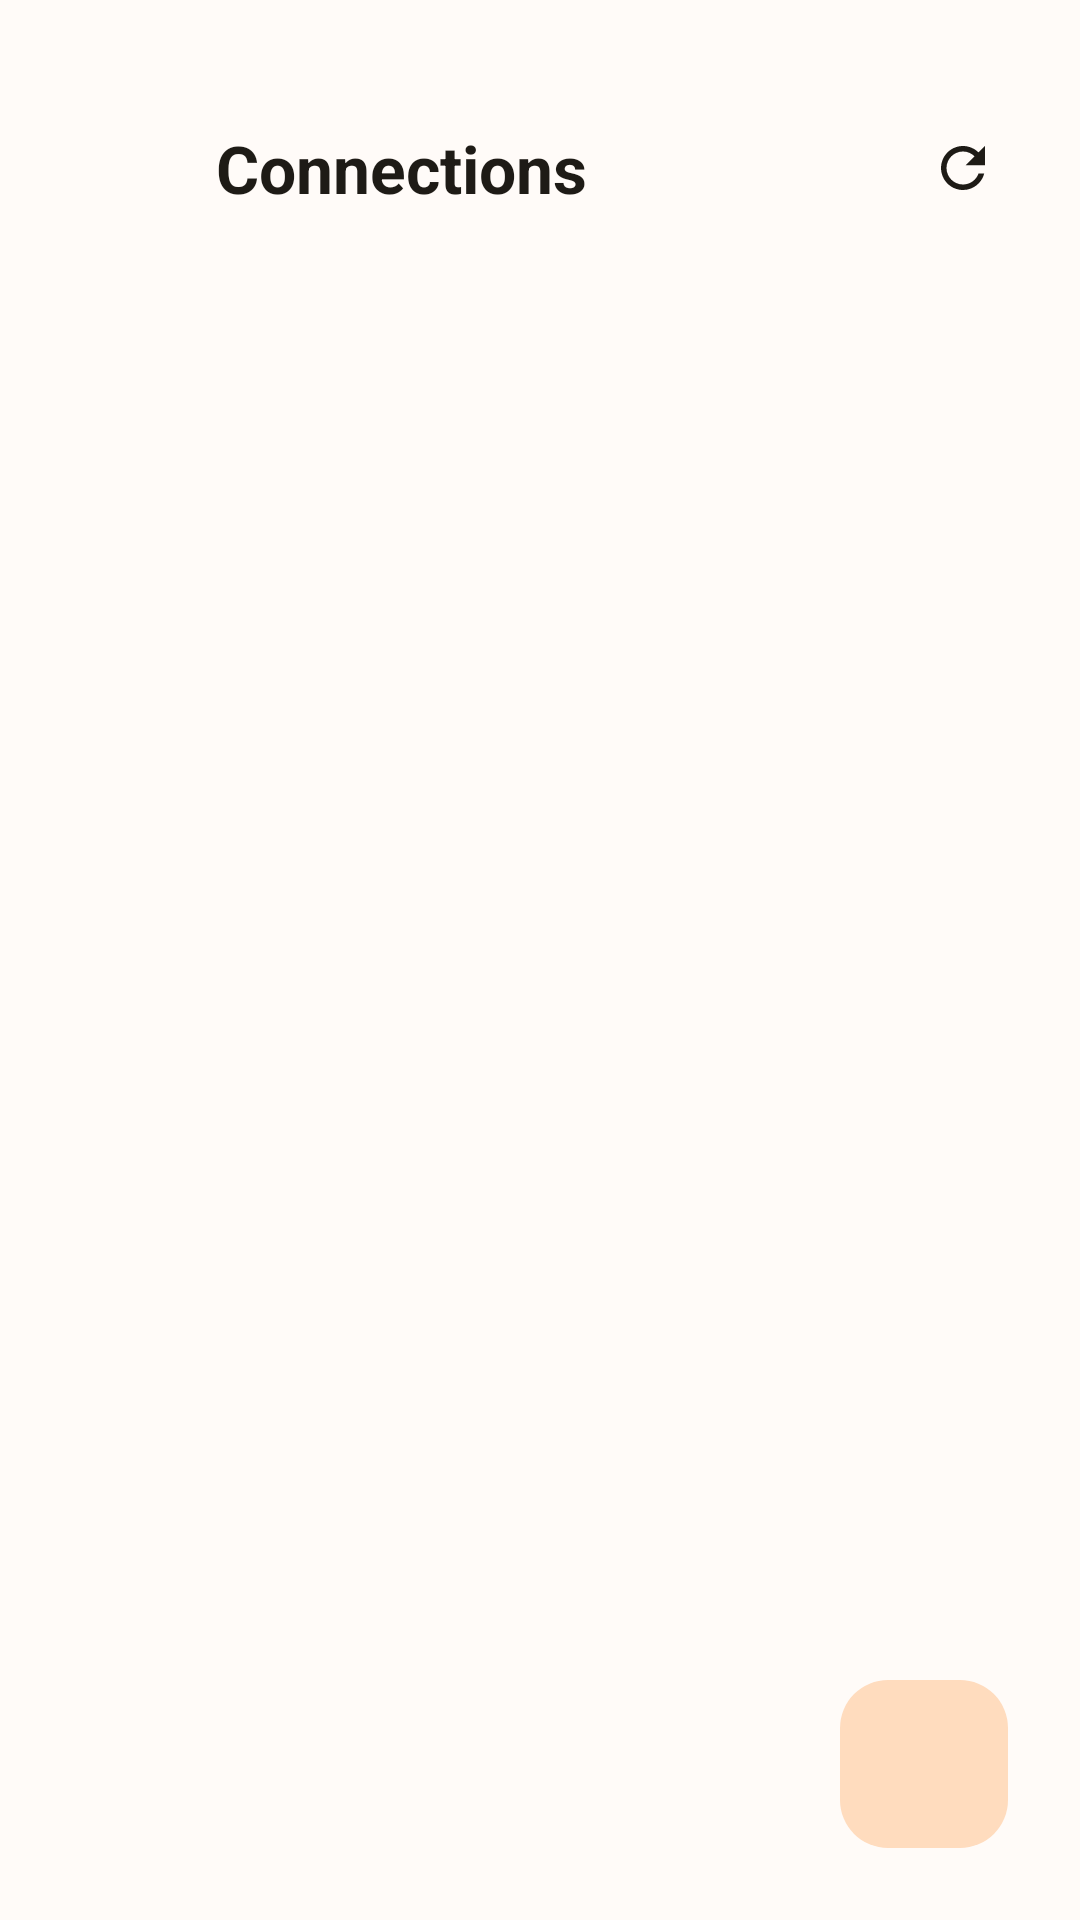

Icon bounding boxes for this 1080 x 1920 phone screenshot, format (x1, y1, x2, y2):
refresh: (941, 146, 985, 190)
